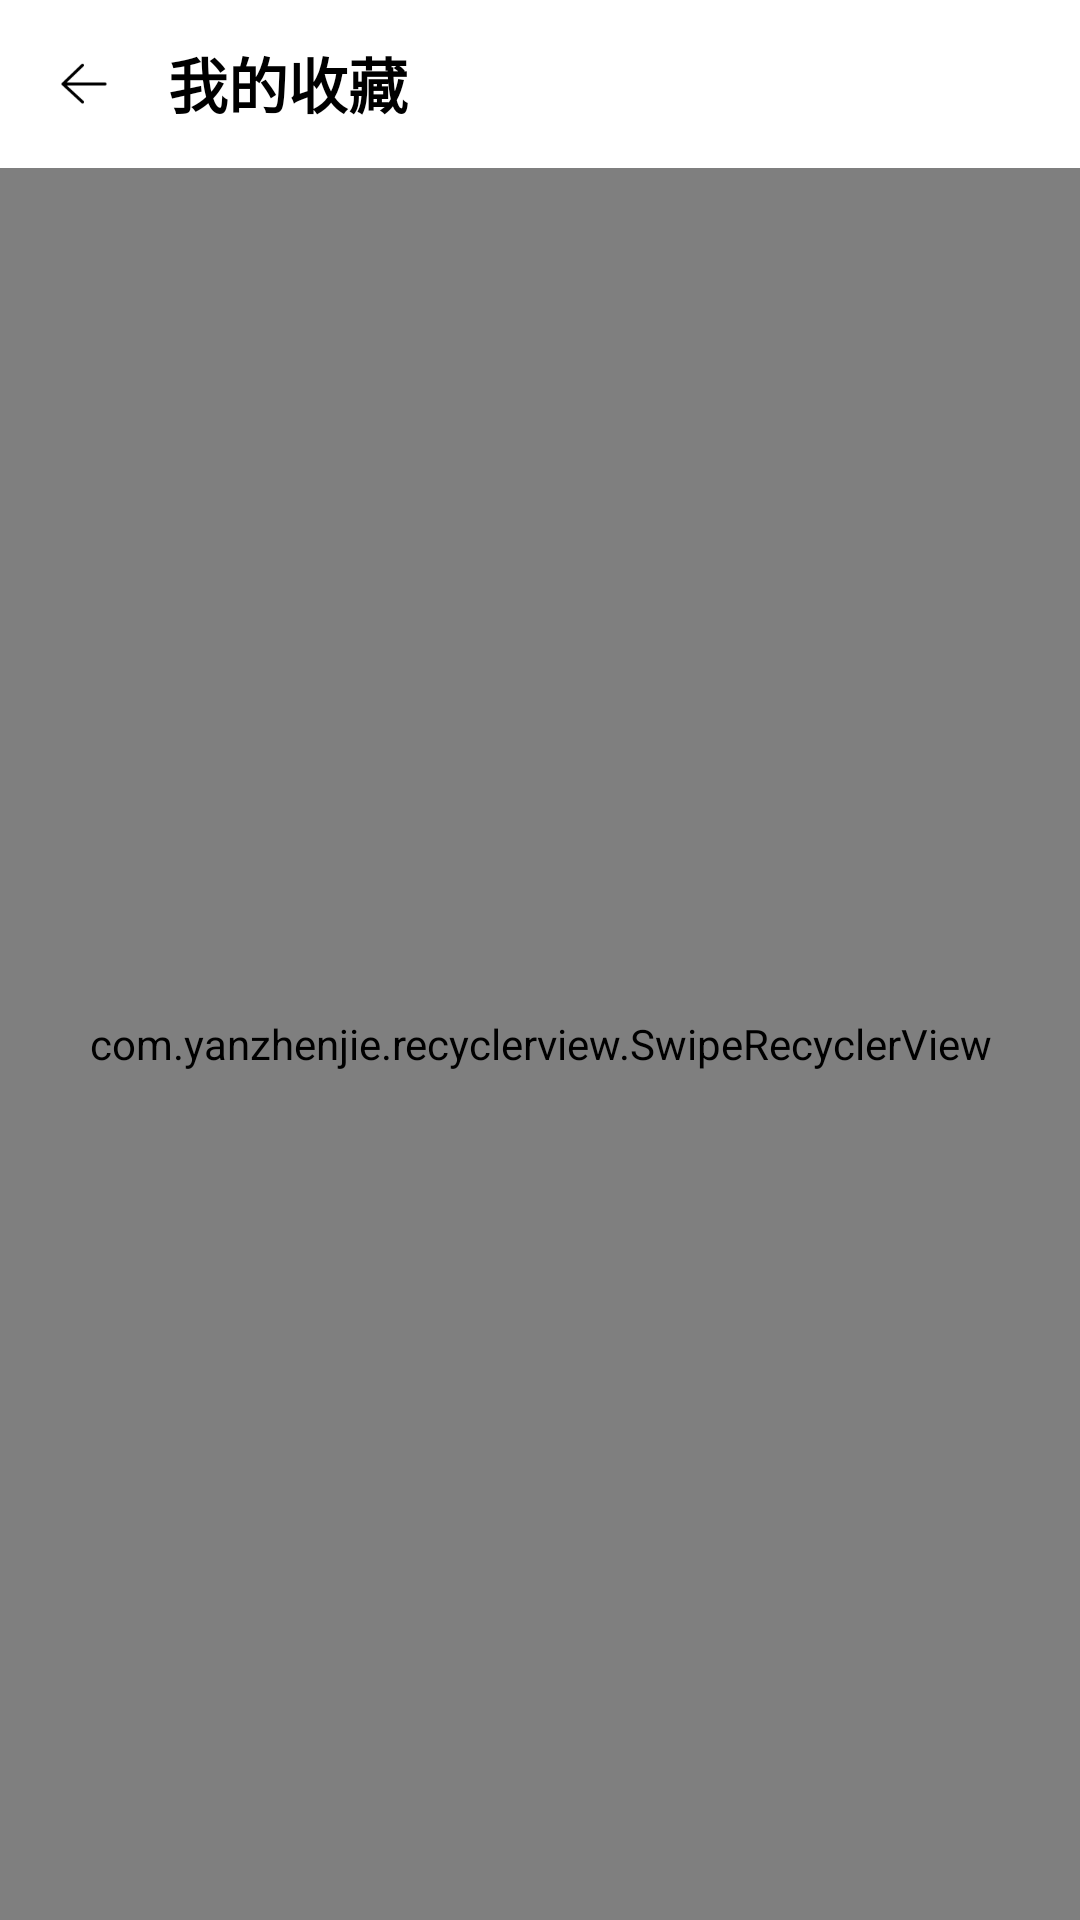

Where to tap for icons on this 1080 x 1920 app screen, as point (x, y):
back: point (84, 83)
